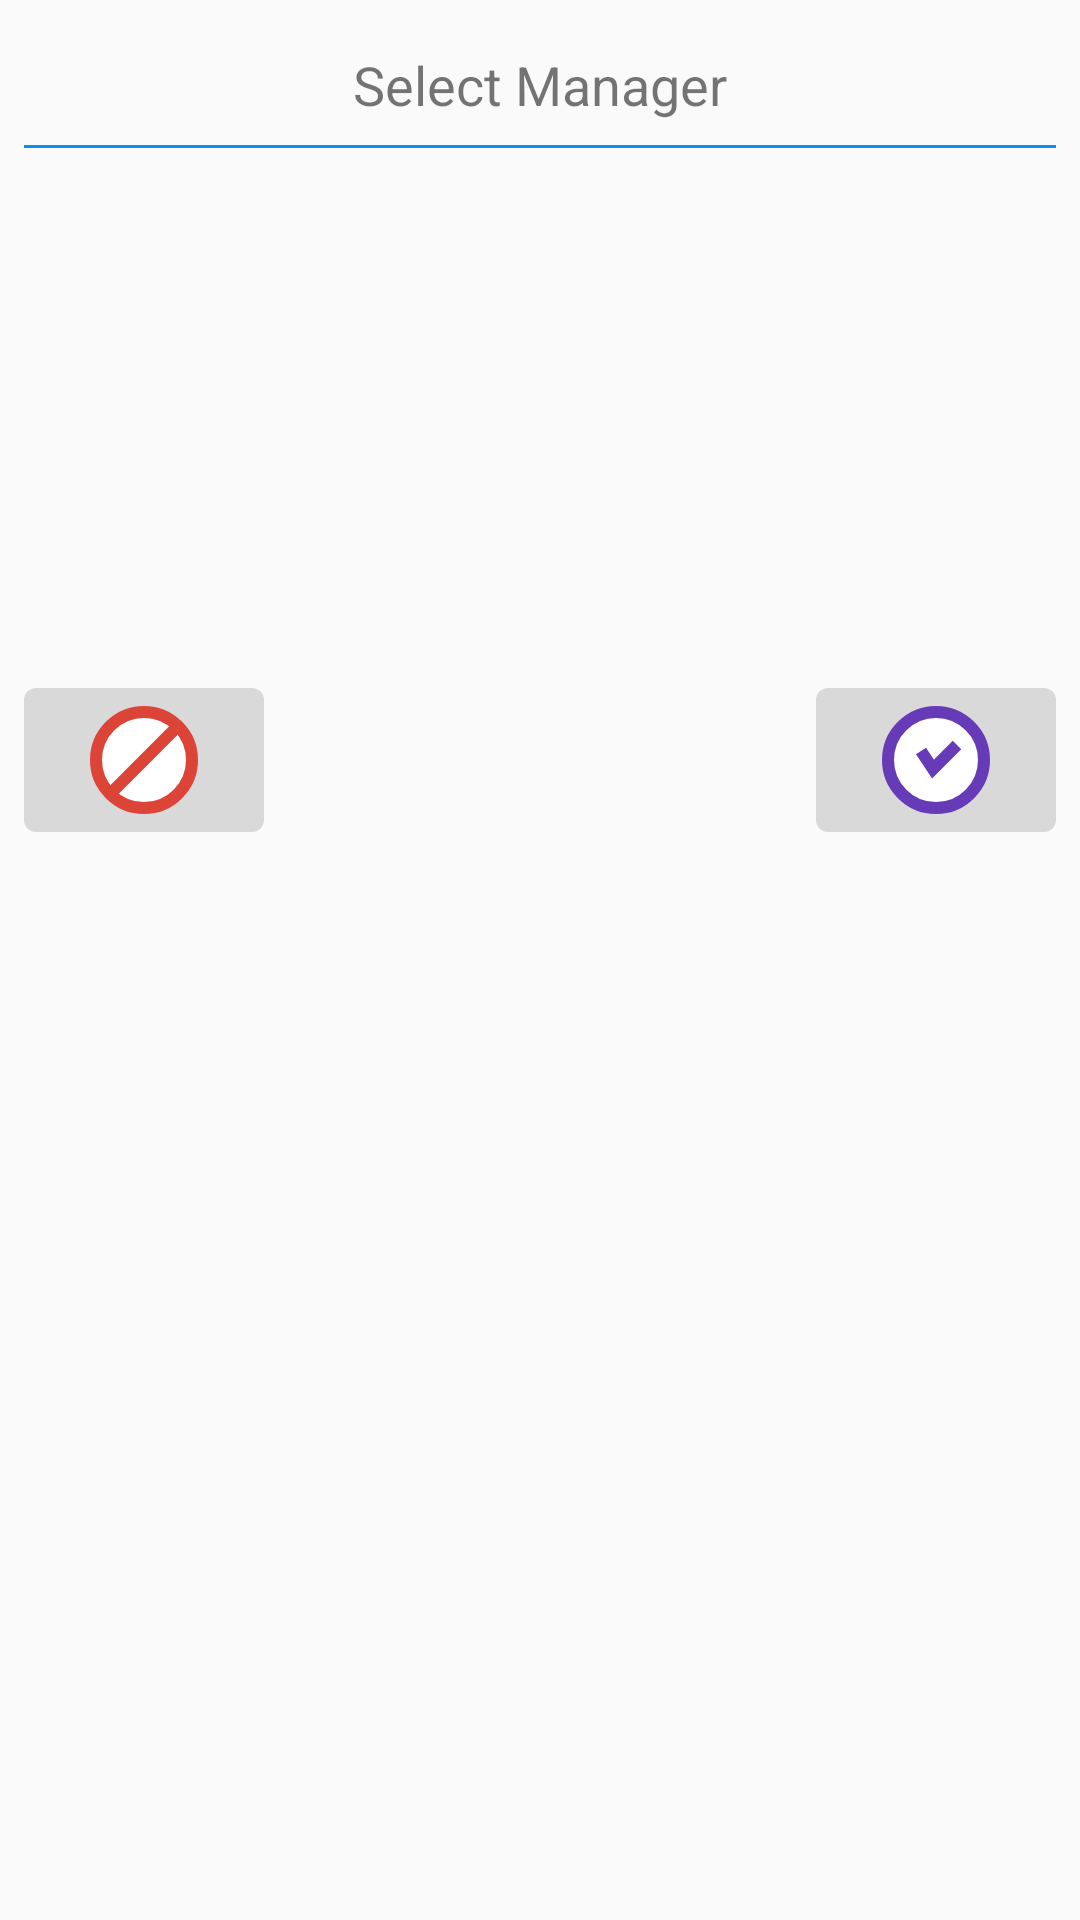

Icons on this 1080px×1920px Android screen, each with the point to tap as [x,y]:
cancel: [144,760]
